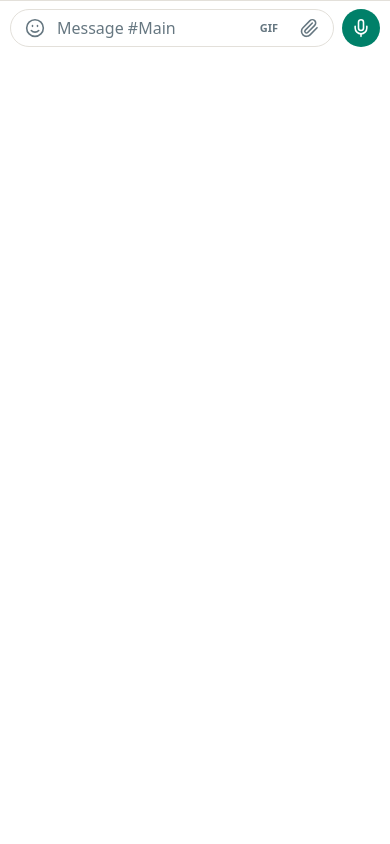
it: Composer: emoji › phone: inserts at the caret without focusing the field (the keyboard stays down), and keeps picking
Type "abcd" into the text box with placeholder "Message #Main". click: x=152, y=28
box: [57,10,247,46]
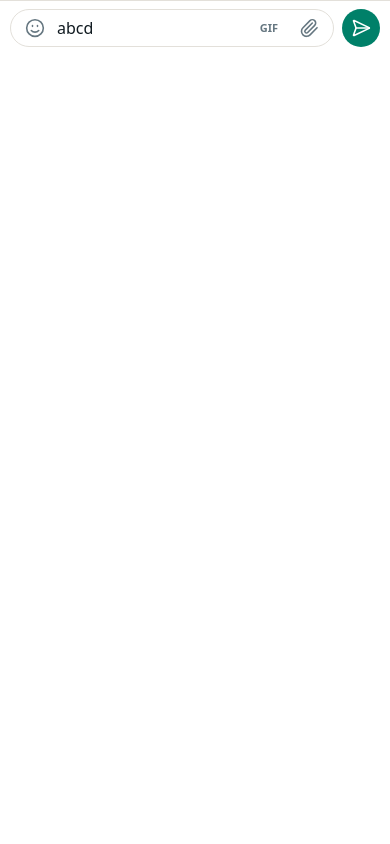
Click the button named "Pick an emoji". click: x=35, y=28
box: [17,10,53,46]
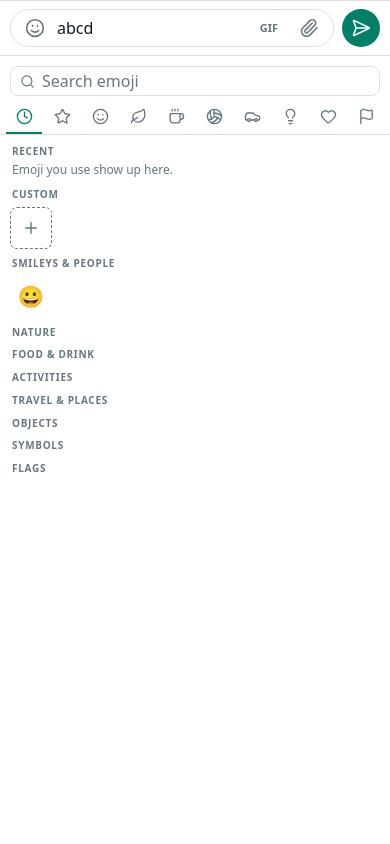
Click the button named "grinning face". click: x=31, y=297
box: [8,274,54,320]
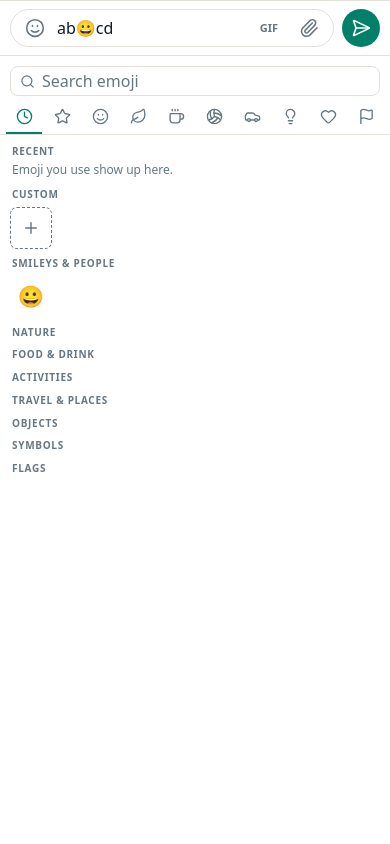
Click the button named "grinning face". click: x=31, y=297
box: [8,274,54,320]
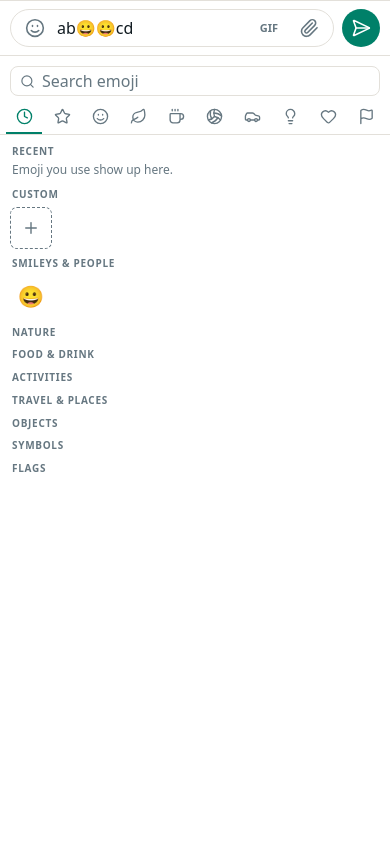
Now the dialog named "Emoji picker" is shown, box [0,55,389,511]
Now the text box with placeholder "Message #Main" holds "ab😀😀cd", box [57,10,247,46]
